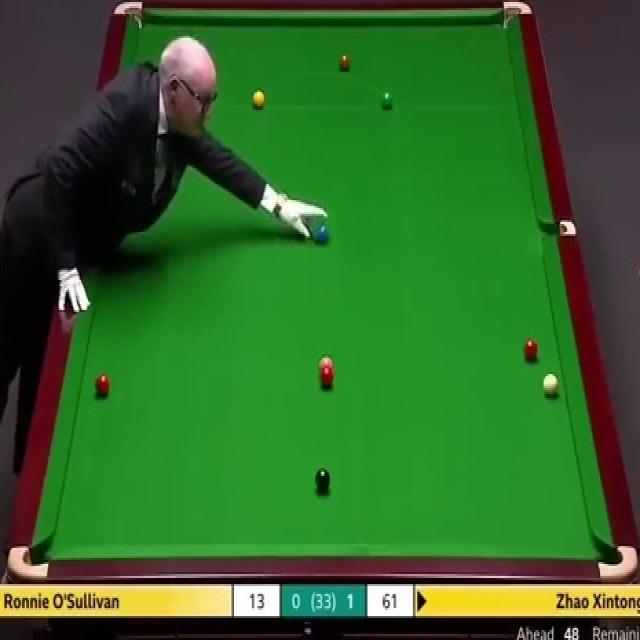pocket: (597, 542, 640, 584), (10, 542, 50, 583), (504, 0, 534, 31), (114, 0, 144, 29), (542, 221, 575, 237)
